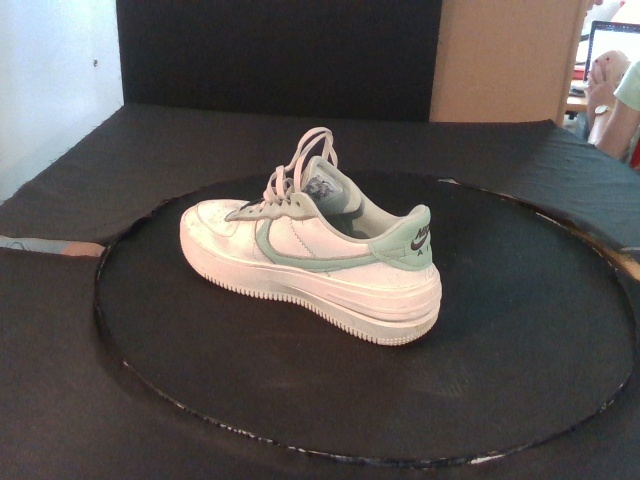shoe: (179, 155, 444, 347)
